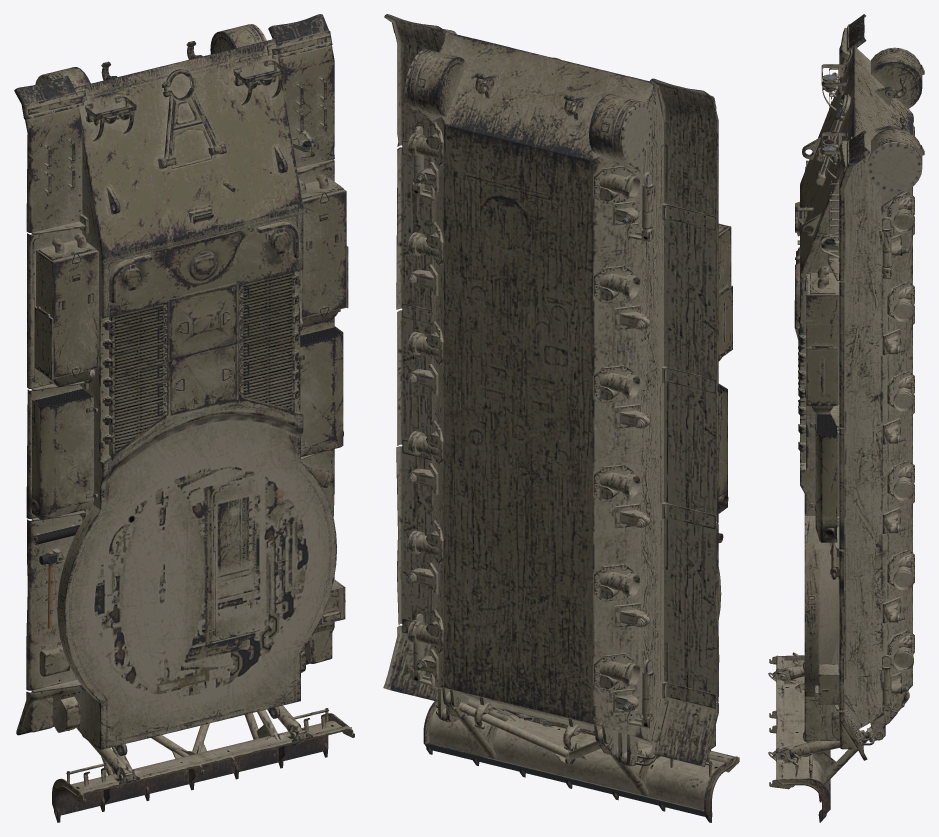
The model's file is Hull.glb.
3 renders of one model, left to right at view 1: azimuth 30°, elevation 25°; view 2: azimuth 150°, elevation 25°; view 3: azimuth 270°, elevation 25°, orthographic. The views are drawn at different scales.
Visible parts, largest first — view 1: set_0_group_0; view 2: set_0_group_0; view 3: set_0_group_0.
Part boxes in pixels (x1=…): set_0_group_0: x1=14, y1=14, x2=354, y2=822; set_0_group_0: x1=383, y1=14, x2=739, y2=822; set_0_group_0: x1=768, y1=14, x2=924, y2=822.
Size of the model in its own units: 3.39 by 7.58 by 1.59.
Materials: 1 (1 with a texture image).
